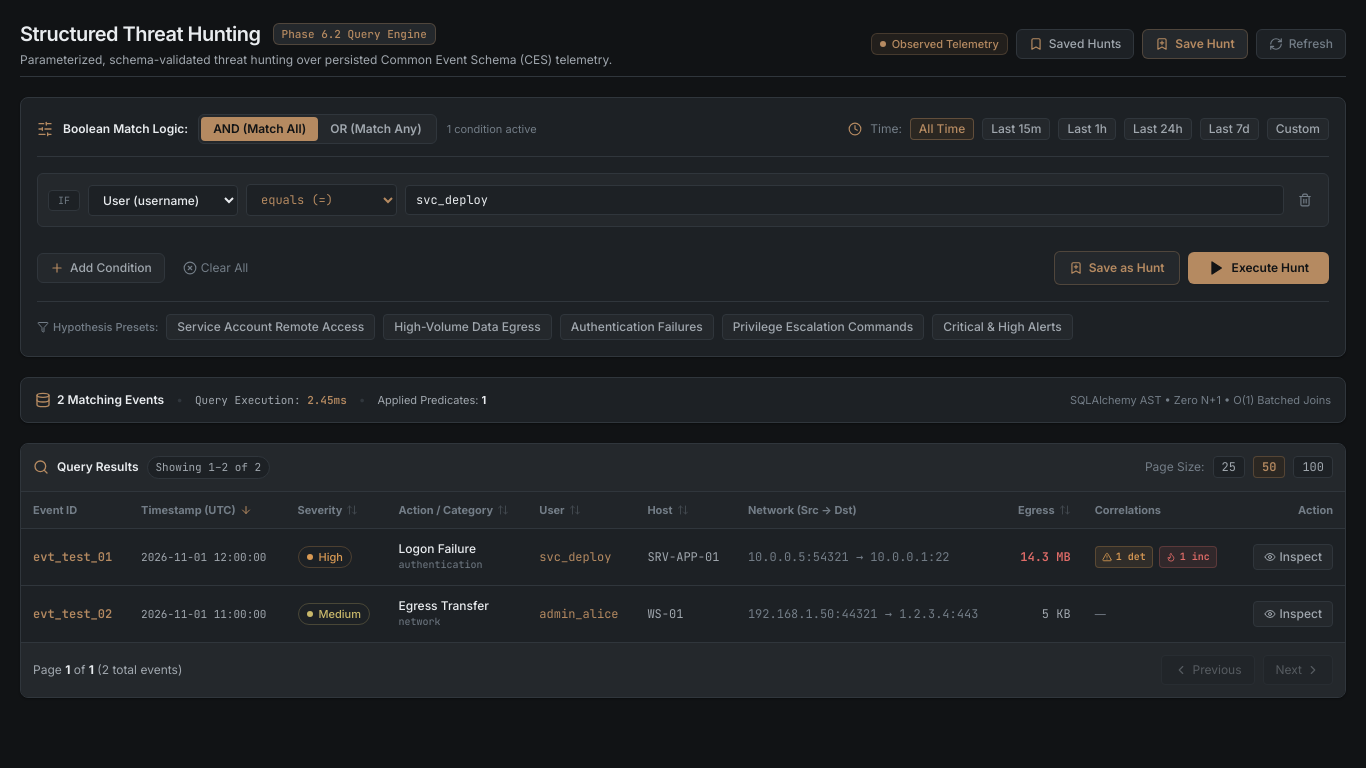
Test: ThreatHunting View Component › supports adding and removing filter conditions
Expected: the 1st dropdown is shown, x1=88 y1=184 x2=238 y2=216
// Click Add Condition
Click the button "Add Condition" at (101, 268), box x1=37 y1=253 x2=165 y2=283
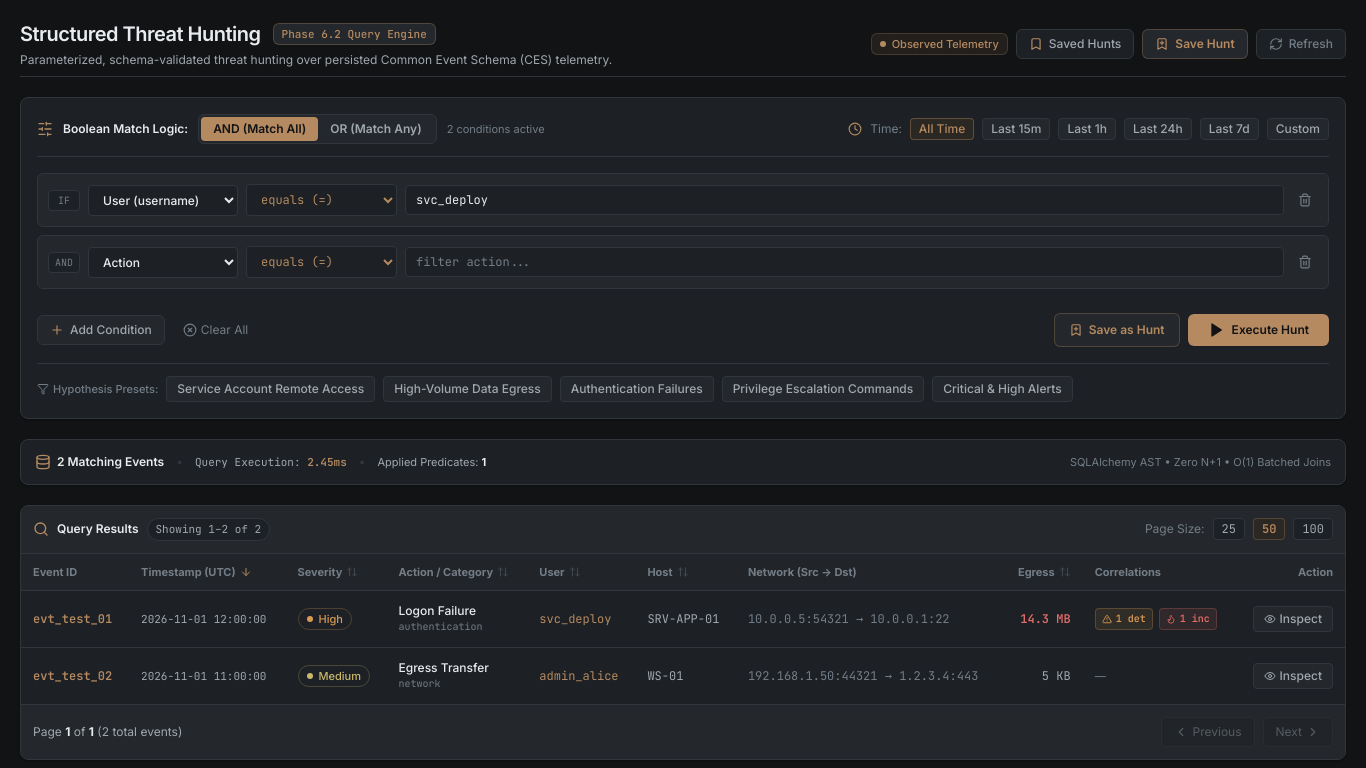
Expected: the number of buttons titled "Remove condition" is 2
// Remove one condition
Click the button titled "Remove condition" in the row of "IF" at (1305, 200), box x1=1292 y1=187 x2=1318 y2=213
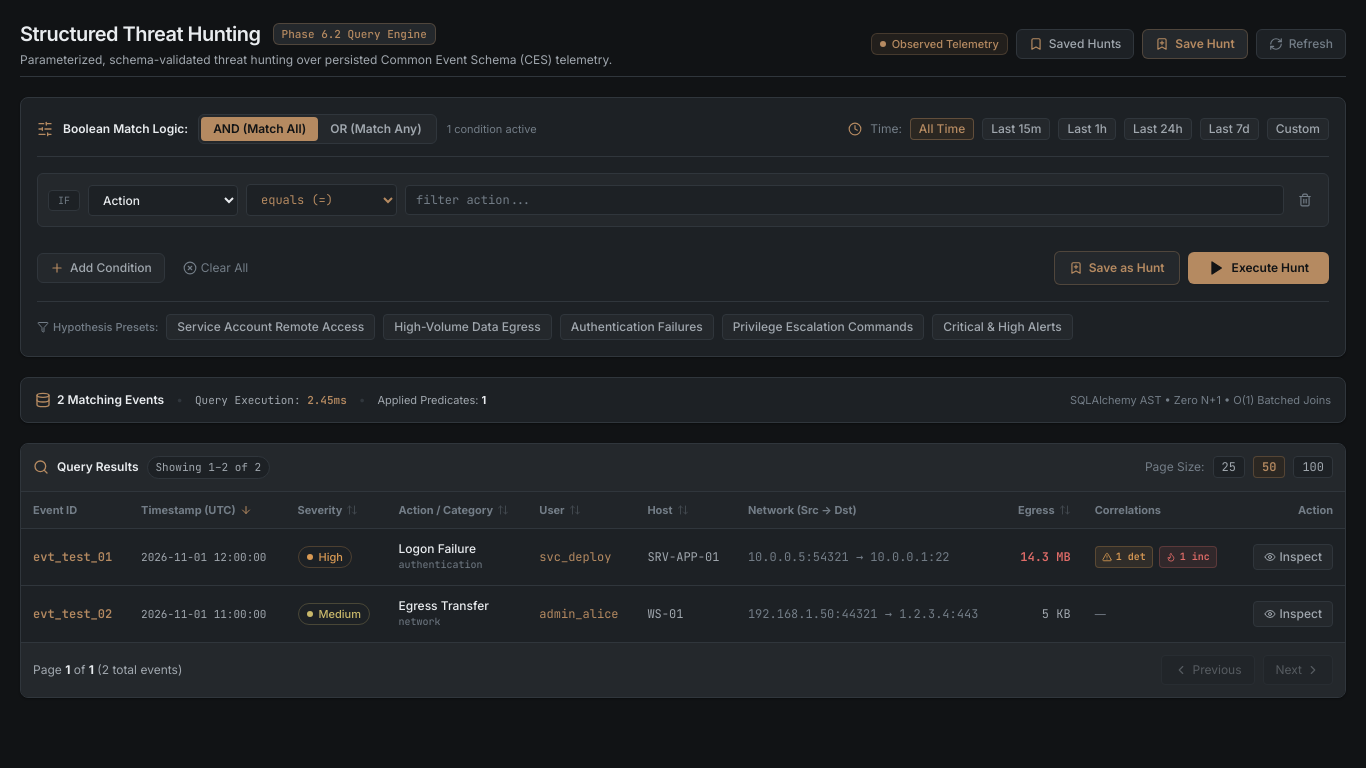
Expected: the number of buttons titled "Remove condition" is 1, x1=1292 y1=187 x2=1318 y2=213
